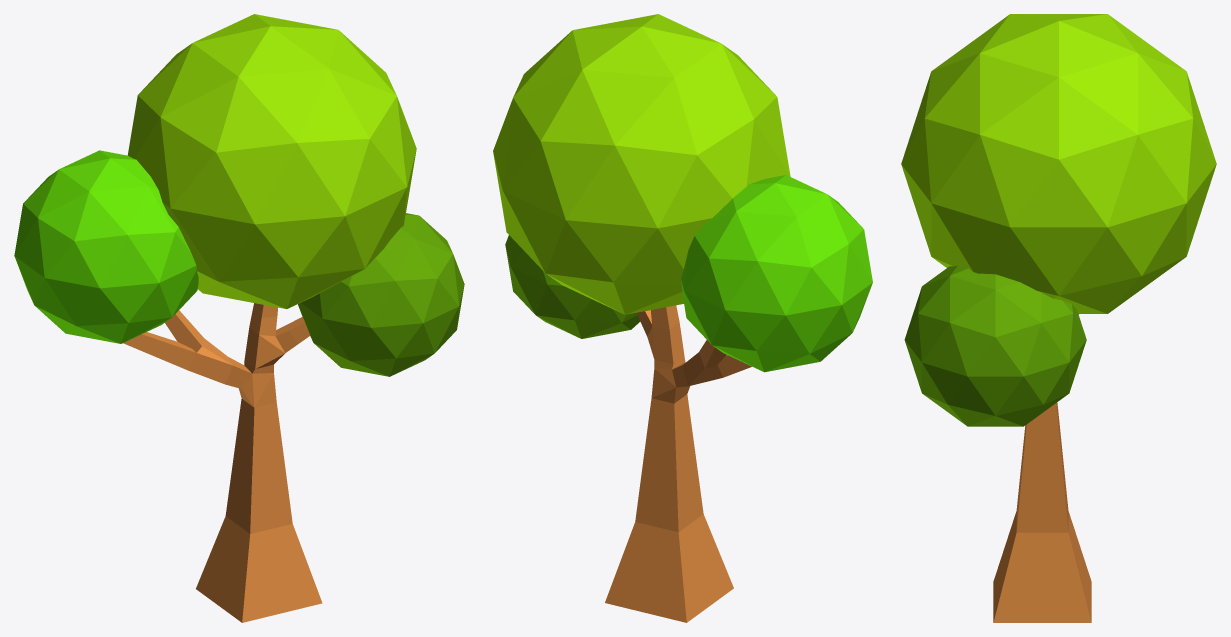
Rendered from Pohon hijau .fbx.
The picture shows the model from 3 angles, left to right: view 1: azimuth 30°, elevation 25°; view 2: azimuth 150°, elevation 25°; view 3: azimuth 270°, elevation 25°; orthographic projection. The views are drawn at different scales.
Visible parts, largest first — view 1: Pohon; view 2: Pohon; view 3: Pohon.
Boxes of the visible parts, x1,y1,x2,y2 form: Pohon: (14,14,464,622); Pohon: (493,14,872,622); Pohon: (901,14,1216,622).
Size of the model in its own units: 3.91 by 5.55 by 2.68.
